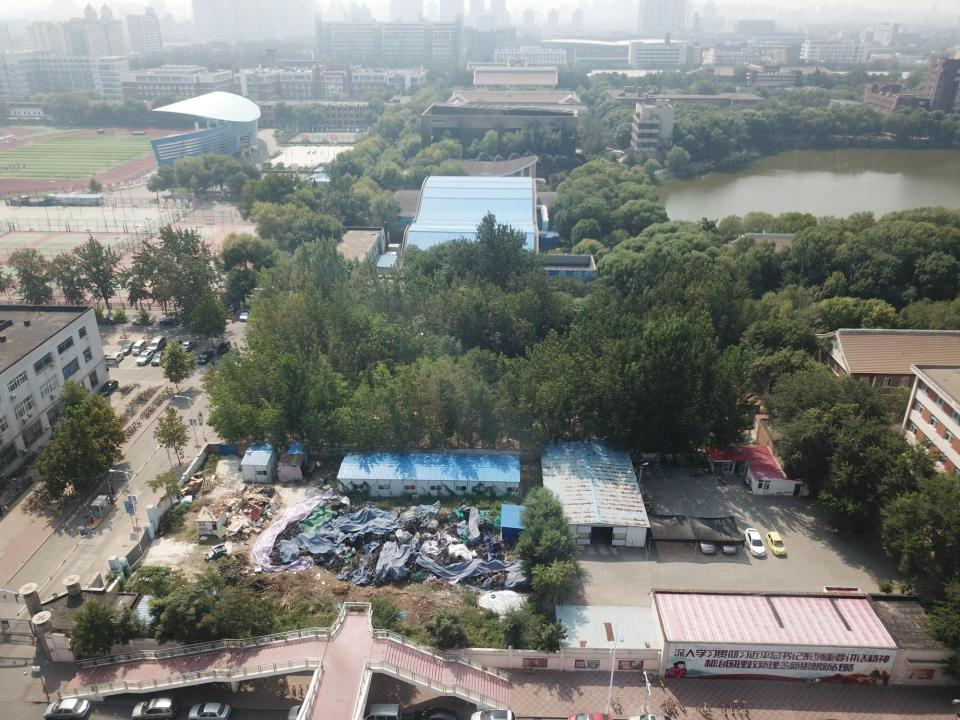car: (130, 697, 178, 720), (44, 699, 90, 719), (188, 703, 231, 720), (745, 527, 766, 557), (288, 705, 332, 719), (412, 708, 458, 720), (698, 525, 716, 554), (470, 709, 516, 720), (718, 526, 736, 554), (766, 531, 785, 555), (99, 380, 118, 396), (136, 349, 154, 365), (196, 349, 214, 364), (119, 341, 135, 355), (160, 317, 183, 326), (675, 697, 687, 714), (151, 352, 165, 366), (217, 341, 231, 354), (109, 352, 124, 364), (180, 341, 196, 352), (132, 317, 154, 325), (96, 316, 117, 324), (240, 310, 251, 321), (245, 151, 250, 157), (250, 147, 256, 152)
van: (360, 703, 402, 720), (146, 336, 166, 352), (637, 492, 650, 512), (131, 340, 146, 354)
